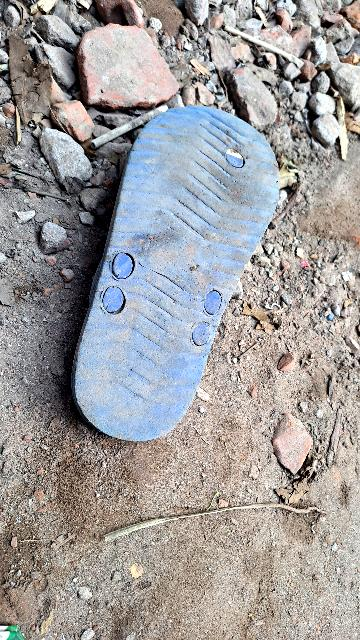sandal: (66, 87, 306, 467)
